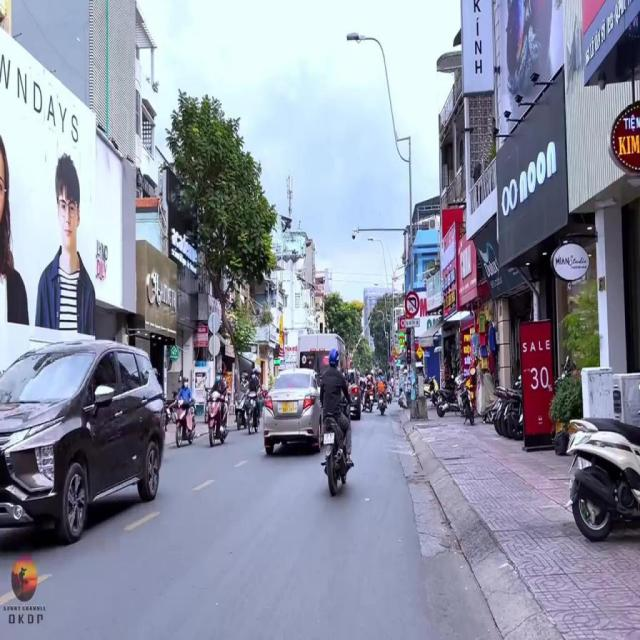cam_o_to_re_trai: (404, 290, 420, 318)
khac: (404, 318, 420, 328)
